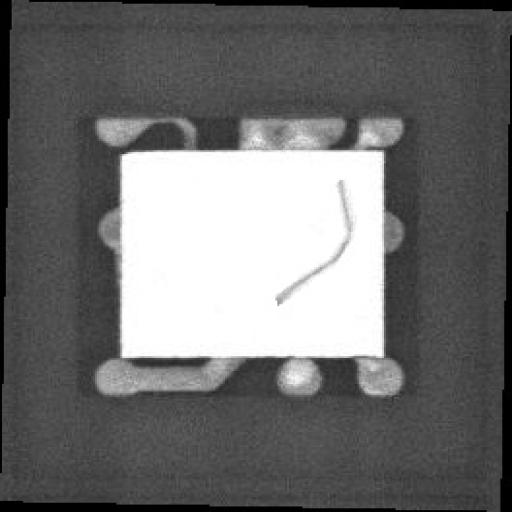DIE_INK: (262, 184, 338, 316)
